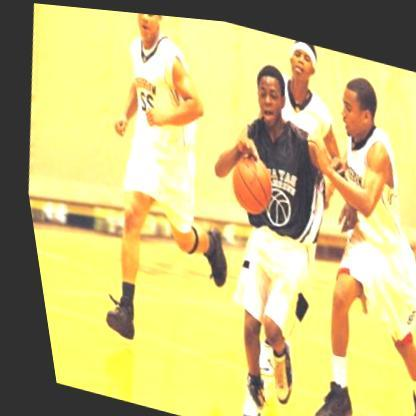basketball: (217, 144, 275, 214)
